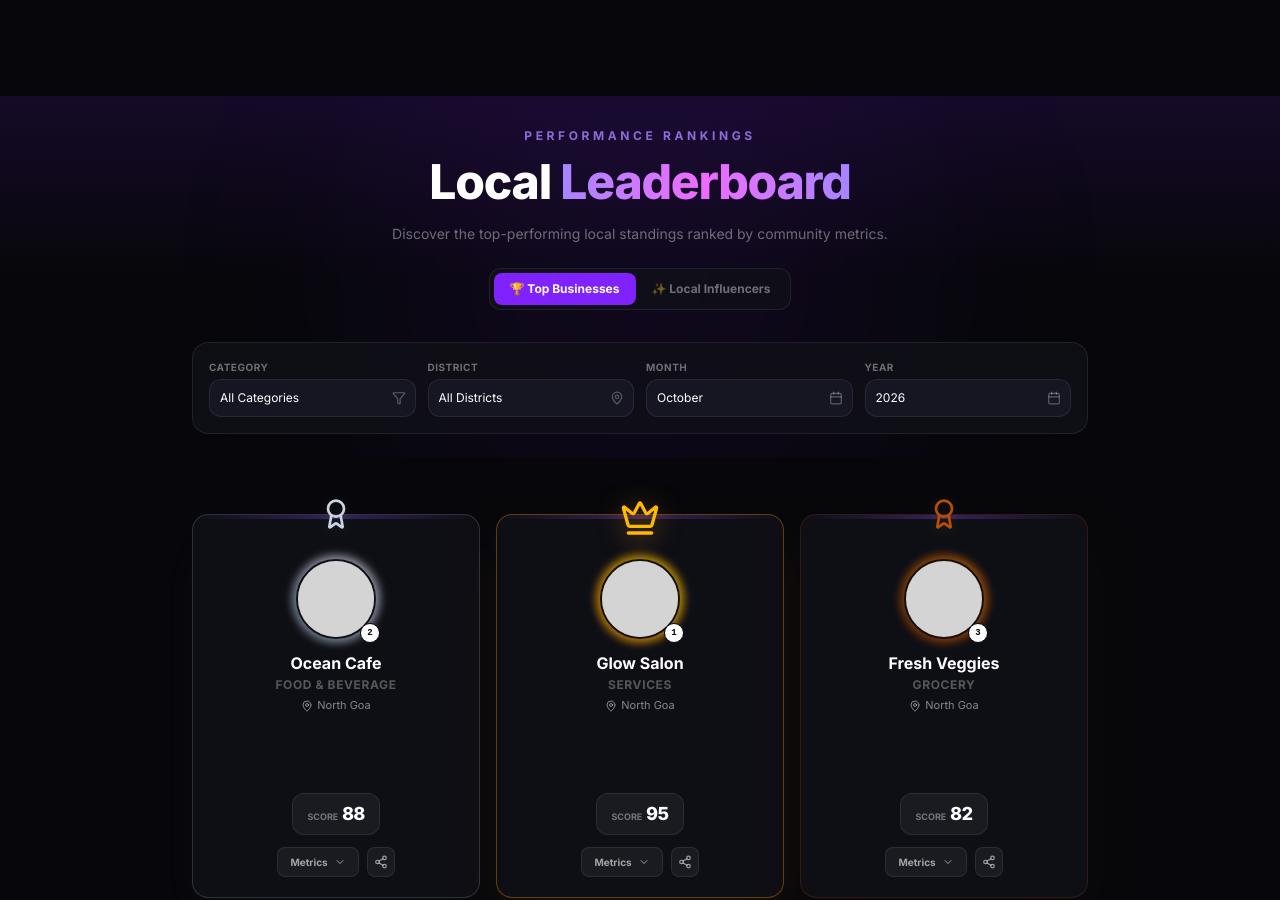
Test: Leaderboard Page › toggles the metrics breakdown panel when details is clicked
Expected: the heading "Glow Salon" is shown, 592,651 -> 688,675
Expected: the text "Metric Breakdown" is not shown
Click the button "Metrics" below "95": (622, 862) 581,847 -> 663,877
(page scrolled)
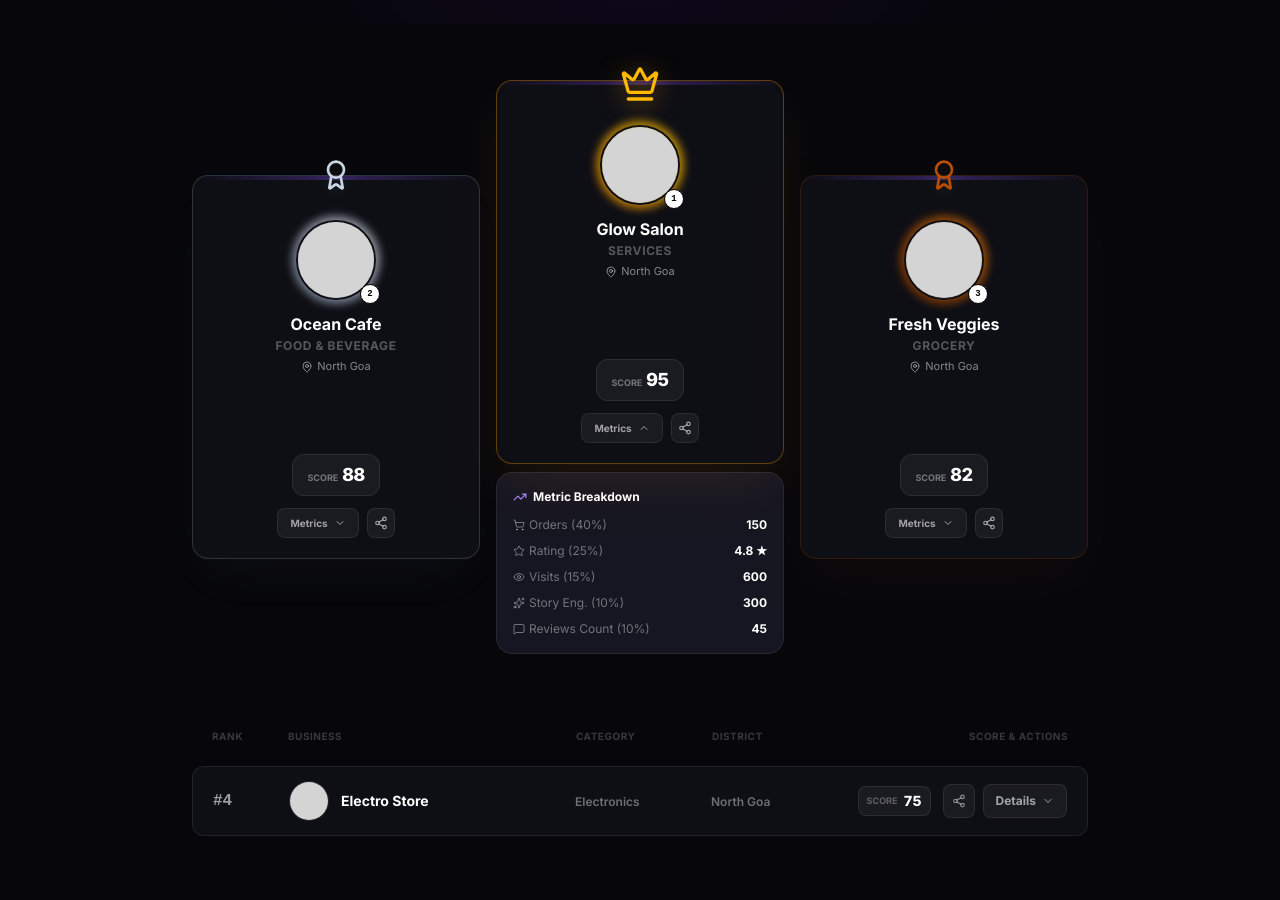
Expected: the heading "Metric Breakdown" is shown, 513,489 -> 640,504
Expected: the text "Orders (40%)" is shown, 513,517 -> 607,533
Expected: the text "150" is shown, 746,517 -> 767,533
